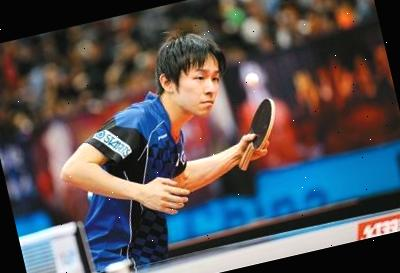ball: (240, 69, 260, 88)
